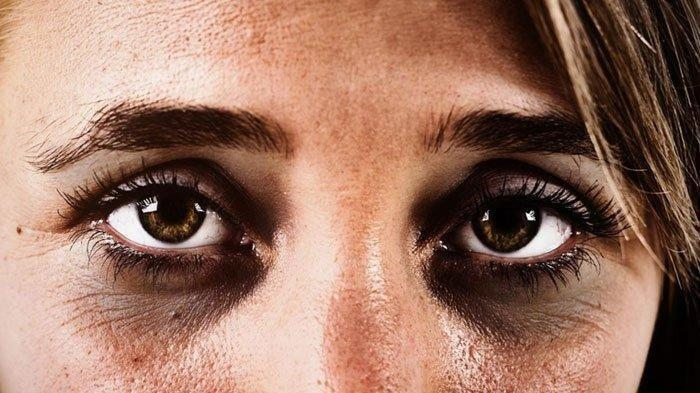Eyebags: (409, 154, 617, 351), (62, 215, 272, 364)
